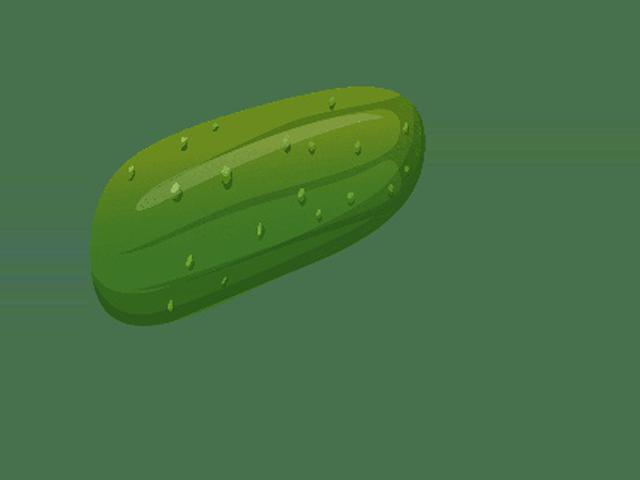cucumber: (88, 86, 424, 326)
